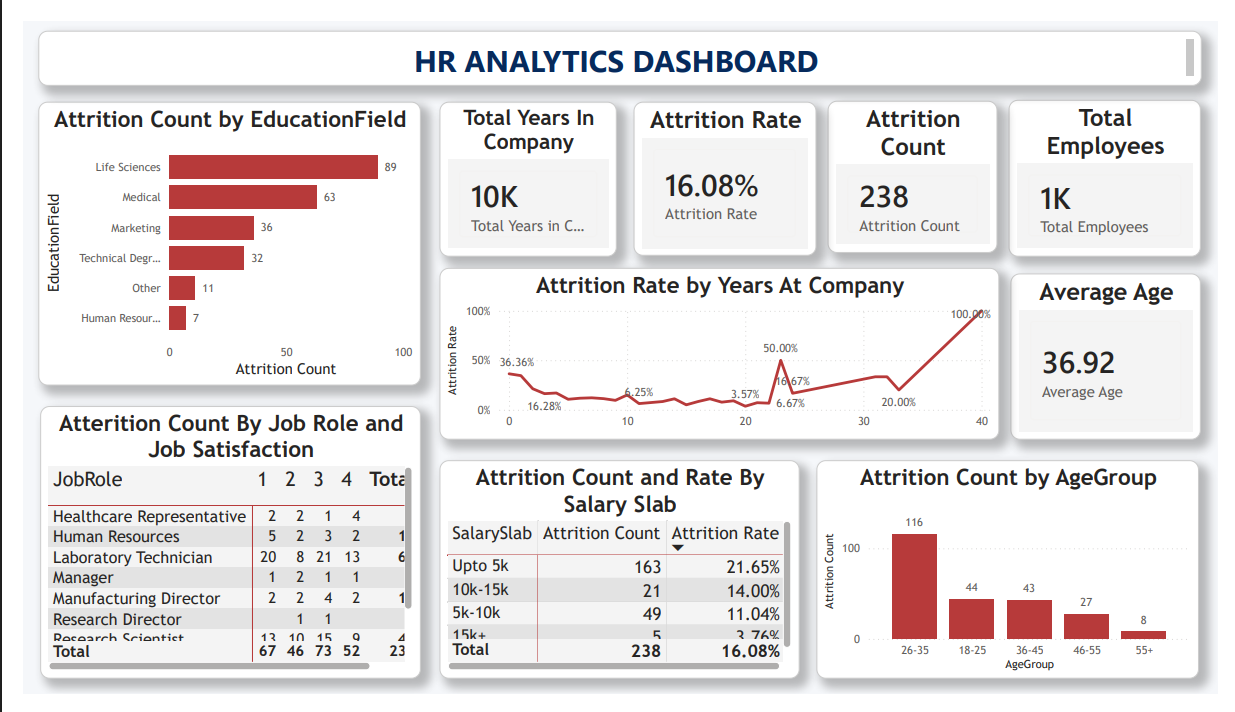

What the dashboard file says about the page in this screenshot:
{"tool":"powerbi","page":{"name":"Page 1","canvas":[1280,720],"ordinal":0},"visuals":[{"type":"cardVisual","title":"Total Employees","fields":{"Data":["HR_Analytics.Total Employees"]},"box":[1056,84,206,168],"z":0},{"type":"cardVisual","title":"Attrition Count","fields":{"Data":["HR_Analytics.Attrition Count"]},"box":[861.6,85.1,182.8,162.9],"z":1000},{"type":"cardVisual","title":"Attrition Rate","fields":{"Data":["HR_Analytics.Attrition Rate"]},"box":[654.3,85.7,195.7,165.7],"z":2000},{"type":"cardVisual","title":"Average Age","fields":{"Data":["HR_Analytics.Average Age"]},"box":[1058,270,204,178],"z":3000},{"type":"cardVisual","title":"Total Years In Company","fields":{"Data":["HR_Analytics.Total Years in Company"]},"box":[446,86,190,166],"z":4000},{"type":"clusteredBarChart","fields":{"Category":["HR_Analytics.EducationField"],"Y":["HR_Analytics.Attrition Count"]},"box":[16,86,410,304],"z":5000},{"type":"clusteredColumnChart","fields":{"Category":["HR_Analytics.AgeGroup"],"Y":["HR_Analytics.Attrition Count"]},"box":[850,470,410,234],"z":6000},{"type":"pivotTable","title":"Atterition Count By Job Role and Job Satisfaction","fields":{"Rows":["HR_Analytics.JobRole"],"Columns":["HR_Analytics.JobSatisfaction"],"Values":["HR_Analytics.Attrition Count"]},"box":[18,412,408,292],"z":7000},{"type":"pivotTable","title":"Attrition Count and Rate By Salary Slab","fields":{"Rows":["HR_Analytics.SalarySlab"],"Values":["HR_Analytics.Attrition Count","HR_Analytics.Attrition Rate"]},"box":[446,470,386,234],"z":8000},{"type":"lineChart","title":"Attrition Rate by Years At Company","fields":{"Category":["HR_Analytics.YearsAtCompany"],"Y":["HR_Analytics.Attrition Rate"]},"box":[446,264,600,184],"z":9000},{"type":"textbox","box":[15.7,10,1247.1,58.6],"z":10000}]}

Visuals, with their boxes in screenshot pixels (x1, y1, x2, y2), scaled from the page's 1280x720 canvas onto the 1235x712 screenshot:
"Total Employees" cardVisual: [1019, 83, 1218, 249]
"Attrition Count" cardVisual: [831, 84, 1008, 245]
"Attrition Rate" cardVisual: [631, 85, 820, 249]
"Average Age" cardVisual: [1021, 267, 1218, 443]
"Total Years In Company" cardVisual: [430, 85, 614, 249]
clusteredBarChart - HR_Analytics.EducationField x HR_Analytics.Attrition Count: [15, 85, 411, 386]
clusteredColumnChart - HR_Analytics.AgeGroup x HR_Analytics.Attrition Count: [820, 465, 1216, 696]
"Atterition Count By Job Role and Job Satisfaction" pivotTable: [17, 407, 411, 696]
"Attrition Count and Rate By Salary Slab" pivotTable: [430, 465, 803, 696]
"Attrition Rate by Years At Company" lineChart: [430, 261, 1009, 443]
textbox: [15, 10, 1218, 68]
